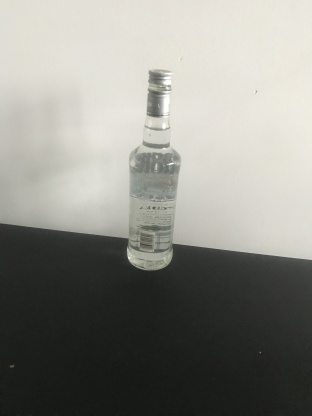nakretka: (145, 67, 174, 117)
